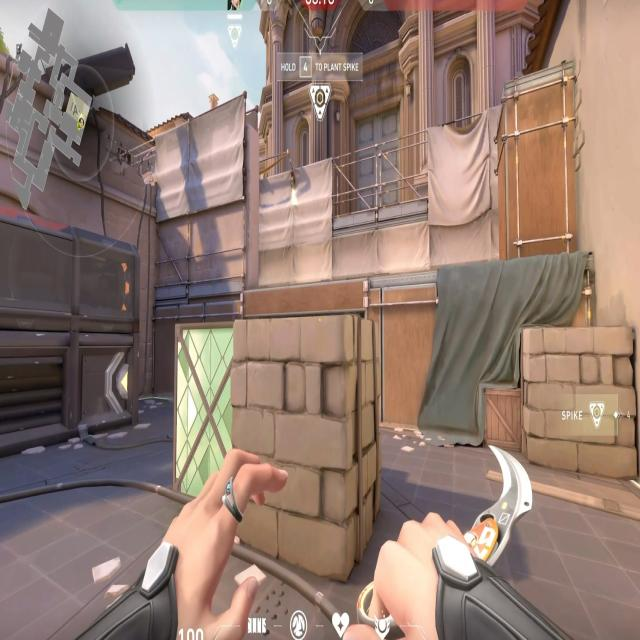A_Heaven_Box: (495, 61, 581, 261)
A_Heaven_Wall: (145, 102, 260, 314)
A_Site_Box: (163, 308, 395, 606)
